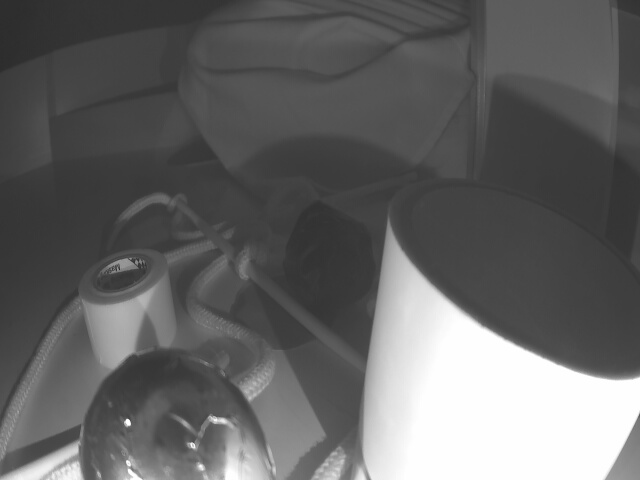Dead: (287, 207, 373, 299)
Live: (83, 342, 270, 480)
Point: (53, 87, 241, 166)
